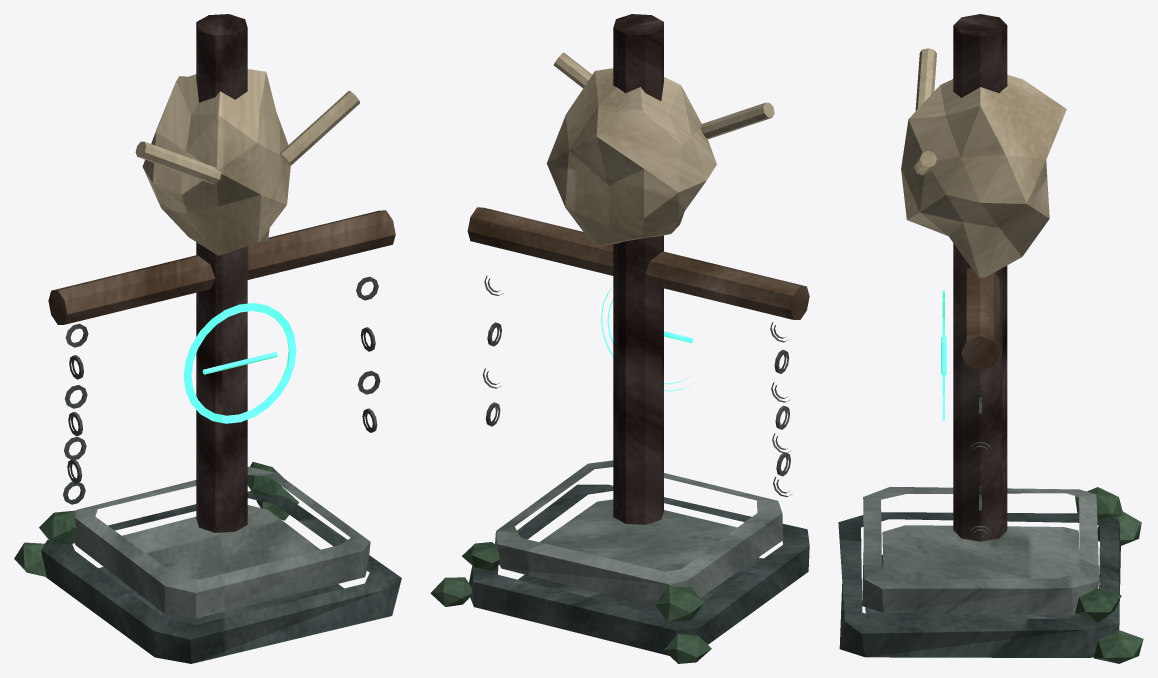
File: 0517_effigy_17.glb
3 views of the same model, side by side, from view 1: azimuth 30°, elevation 25°; view 2: azimuth 150°, elevation 25°; view 3: azimuth 270°, elevation 25° (orthographic). The views are drawn at different scales.
Visible parts, largest first — view 1: stone, bone, stone_dark, wood_dark, wood, glow, iron, moss; view 2: bone, stone, wood_dark, stone_dark, wood, moss, iron; view 3: bone, stone, stone_dark, wood_dark, moss, wood, glow.
Boxes of the visible parts, <box> form: stone: <box>75,466,370,618</box>; bone: <box>135,69,359,255</box>; stone_dark: <box>41,491,401,663</box>; wood_dark: <box>196,14,247,532</box>; wood: <box>48,210,395,324</box>; glow: <box>183,303,296,423</box>; iron: <box>63,276,380,504</box>; moss: <box>14,462,298,576</box>; bone: <box>546,52,774,246</box>; stone: <box>495,460,783,607</box>; wood_dark: <box>613,14,663,524</box>; stone_dark: <box>469,484,809,655</box>; wood: <box>467,207,809,319</box>; moss: <box>430,542,711,663</box>; iron: <box>482,275,791,497</box>; bone: <box>901,48,1066,277</box>; stone: <box>862,487,1099,615</box>; stone_dark: <box>838,512,1120,657</box>; wood_dark: <box>953,14,1007,541</box>; moss: <box>1075,487,1143,663</box>; wood: <box>961,268,999,370</box>; glow: <box>941,290,946,420</box>.
Bounding box in the file's own units: 2 × 3.31 × 1.58.
Materials: 8 (8 with a texture image).
